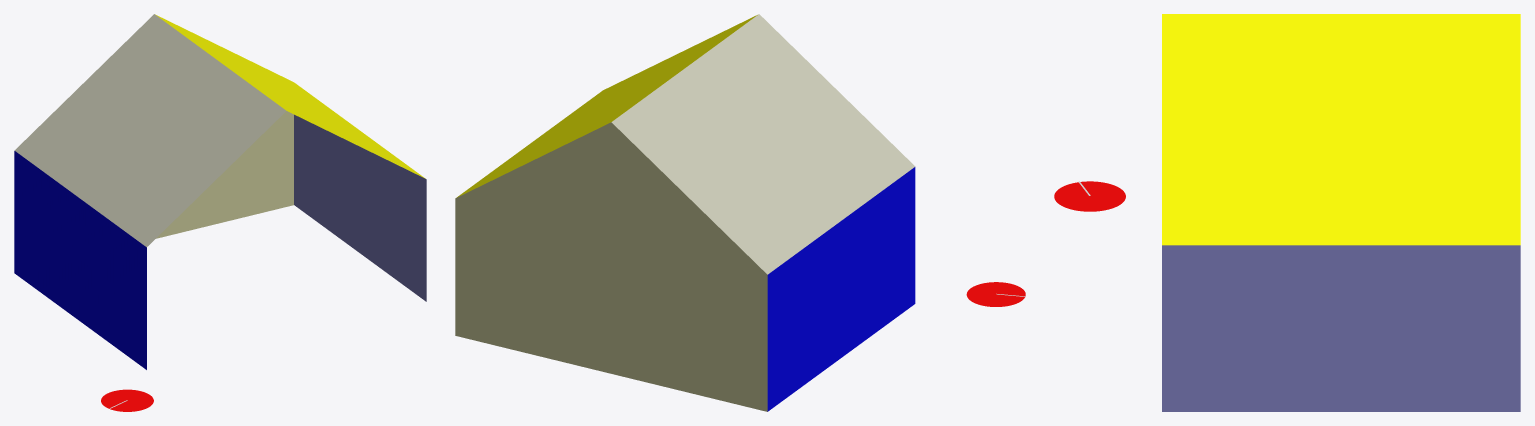
Rendered from result.glb.
3 views of the same model, side by side, from view 1: azimuth 30°, elevation 25°; view 2: azimuth 150°, elevation 25°; view 3: azimuth 270°, elevation 25° (orthographic). The views are drawn at different scales.
Visible parts, largest first — view 1: be661fb2-95bc-43ad-a513-cd46825c563c__undefined, 99ad0aae-2c3f-46f1-9f97-feae22c8d687__undefined, 43611ec0-6822-4477-a322-713fe8063b5d__undefined, 7464696c-0fb0-41a6-bb0b-09bb7bf17522__undefined, b8d8d836-0893-4a3a-aca2-16e79864b2d8__undefined, 09e11130-aa41-443f-b2e7-e3d2ae339247__Circle; view 2: 7464696c-0fb0-41a6-bb0b-09bb7bf17522__undefined, be661fb2-95bc-43ad-a513-cd46825c563c__undefined, 99ad0aae-2c3f-46f1-9f97-feae22c8d687__undefined, b8d8d836-0893-4a3a-aca2-16e79864b2d8__undefined, 09e11130-aa41-443f-b2e7-e3d2ae339247__Circle; view 3: b8d8d836-0893-4a3a-aca2-16e79864b2d8__undefined, 43611ec0-6822-4477-a322-713fe8063b5d__undefined, 09e11130-aa41-443f-b2e7-e3d2ae339247__Circle.
Boxes of the visible parts, x1,y1,x2,y2 form: be661fb2-95bc-43ad-a513-cd46825c563c__undefined: (14, 14, 286, 247); 99ad0aae-2c3f-46f1-9f97-feae22c8d687__undefined: (14, 151, 146, 369); 43611ec0-6822-4477-a322-713fe8063b5d__undefined: (294, 114, 426, 301); 7464696c-0fb0-41a6-bb0b-09bb7bf17522__undefined: (156, 111, 293, 238); b8d8d836-0893-4a3a-aca2-16e79864b2d8__undefined: (155, 14, 425, 178); 09e11130-aa41-443f-b2e7-e3d2ae339247__Circle: (101, 389, 153, 411); 7464696c-0fb0-41a6-bb0b-09bb7bf17522__undefined: (455, 122, 767, 411); be661fb2-95bc-43ad-a513-cd46825c563c__undefined: (611, 14, 914, 274); 99ad0aae-2c3f-46f1-9f97-feae22c8d687__undefined: (767, 167, 915, 411); b8d8d836-0893-4a3a-aca2-16e79864b2d8__undefined: (456, 15, 757, 197); 09e11130-aa41-443f-b2e7-e3d2ae339247__Circle: (966, 282, 1025, 306); b8d8d836-0893-4a3a-aca2-16e79864b2d8__undefined: (1162, 14, 1520, 245); 43611ec0-6822-4477-a322-713fe8063b5d__undefined: (1162, 245, 1520, 411); 09e11130-aa41-443f-b2e7-e3d2ae339247__Circle: (1054, 181, 1125, 211).
Bounding box in the file's own units: 760 × 469 × 650.
